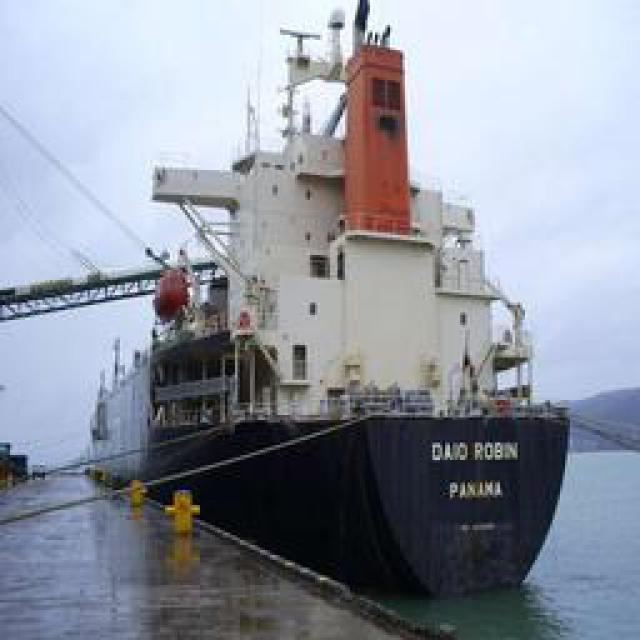Ship: (46, 3, 576, 608)
